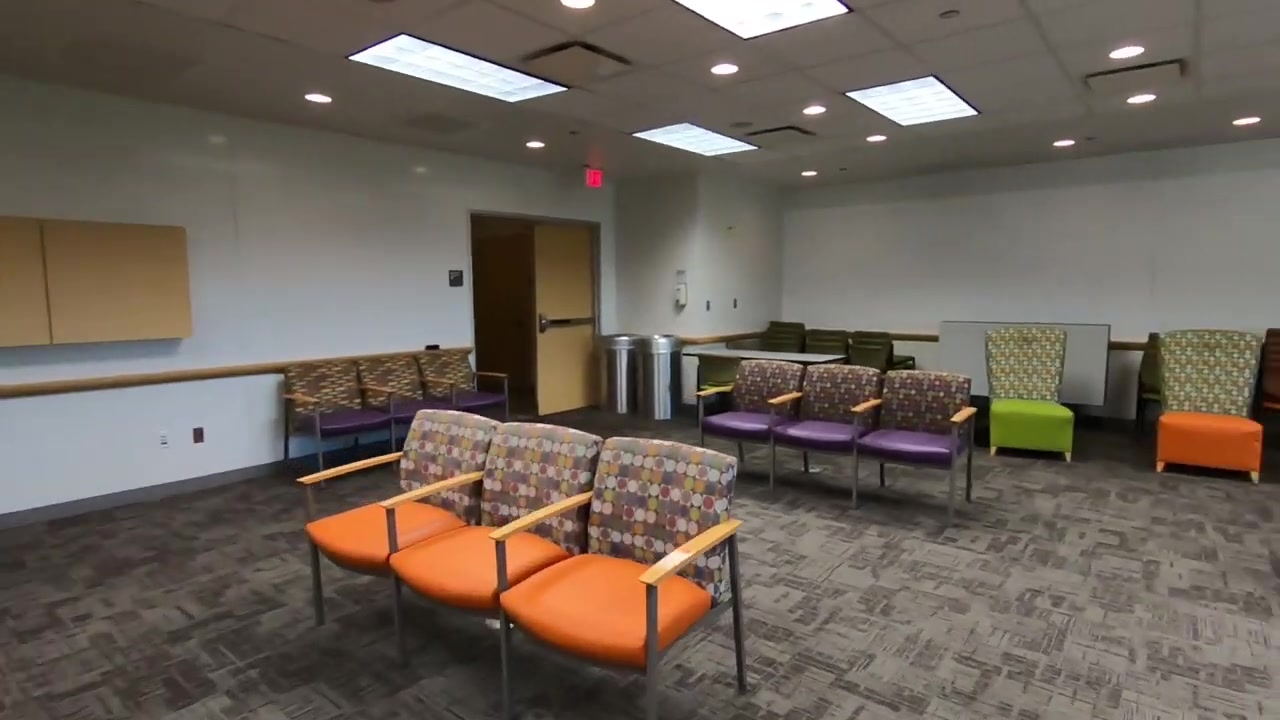chair: (502, 436, 748, 719), (388, 420, 601, 720), (308, 404, 493, 665), (697, 359, 976, 523), (281, 355, 395, 485), (418, 349, 510, 419), (360, 355, 457, 412)
dispenser: (671, 282, 689, 308)
push_latch: (538, 315, 597, 335)
sofa: (1156, 329, 1257, 483), (983, 327, 1075, 465)
waste_bin: (640, 332, 684, 419), (600, 333, 640, 414)
